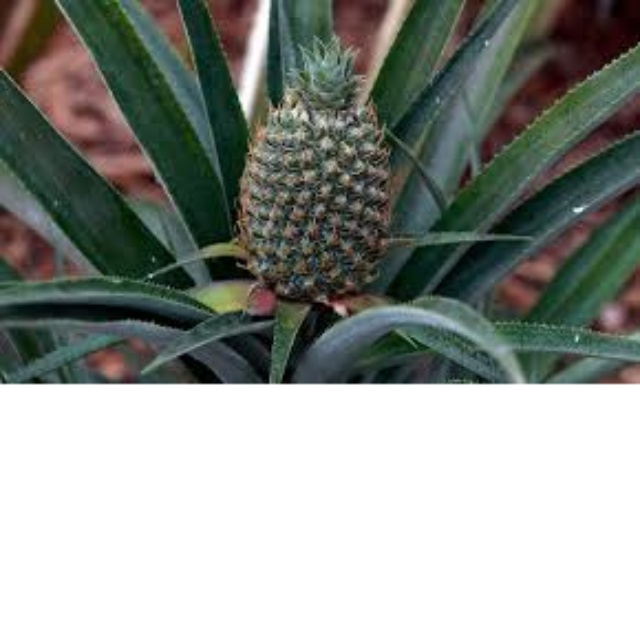thom: (230, 51, 395, 311)
